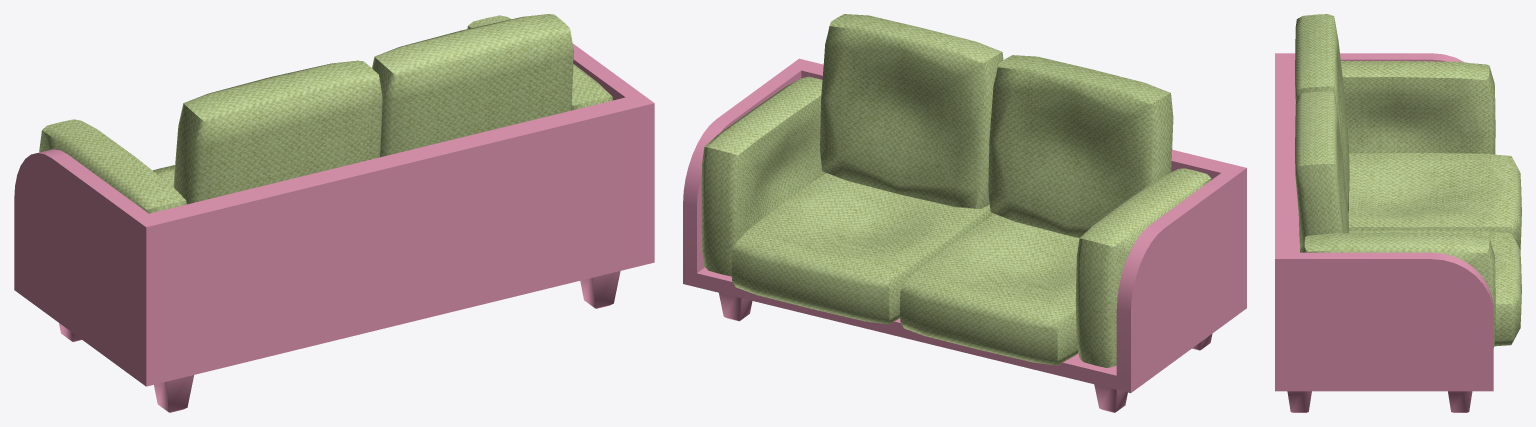
The model's file is furniture_seating_210071.glb.
The picture shows the model from 3 angles, left to right: view 1: azimuth 30°, elevation 25°; view 2: azimuth 150°, elevation 25°; view 3: azimuth 270°, elevation 25°; orthographic projection. The views are drawn at different scales.
Parts seen in each view (by area): view 1: furniture_seating_210071; view 2: furniture_seating_210071; view 3: furniture_seating_210071.
Part boxes in pixels (box(x1,y1,x2,y2)): furniture_seating_210071: box(14, 14, 654, 412); furniture_seating_210071: box(683, 14, 1246, 412); furniture_seating_210071: box(1275, 14, 1521, 412).
Bounding box in the file's own units: 1.61 × 0.8773 × 0.8179.
Materials: 1 (1 with a texture image).
